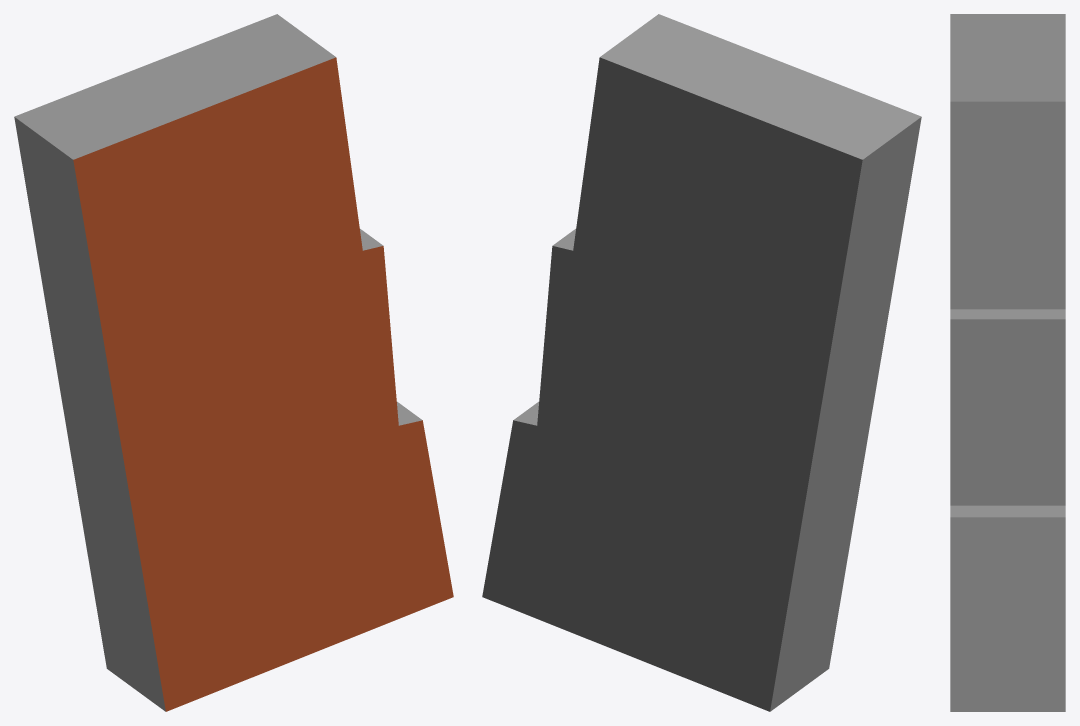
Rendered from construction_3080_assumed_A_Casa_h6m.obj.
3 renders of one model, left to right at view 1: azimuth 30°, elevation 25°; view 2: azimuth 150°, elevation 25°; view 3: azimuth 270°, elevation 25°, orthographic. The views are drawn at different scales.
Parts seen in each view (by area): view 1: construction_3080_assumed_A_Casa; view 2: construction_3080_assumed_A_Casa; view 3: construction_3080_assumed_A_Casa.
Boxes of the visible parts, <box> form: construction_3080_assumed_A_Casa: <box>14,14,453,711</box>; construction_3080_assumed_A_Casa: <box>482,14,921,711</box>; construction_3080_assumed_A_Casa: <box>950,14,1065,711</box>.
Size of the model in its own units: 22.3 by 34.34 by 6.
